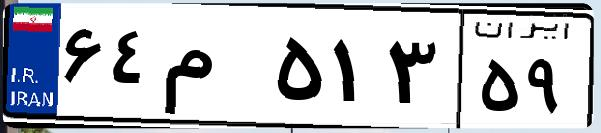1: (330, 28, 385, 110)
3: (385, 28, 445, 110)
4: (110, 28, 158, 98)
5: (270, 28, 330, 110), (475, 38, 525, 113)
6: (57, 26, 110, 100)
9: (525, 38, 570, 115)
م: (158, 20, 270, 120)
